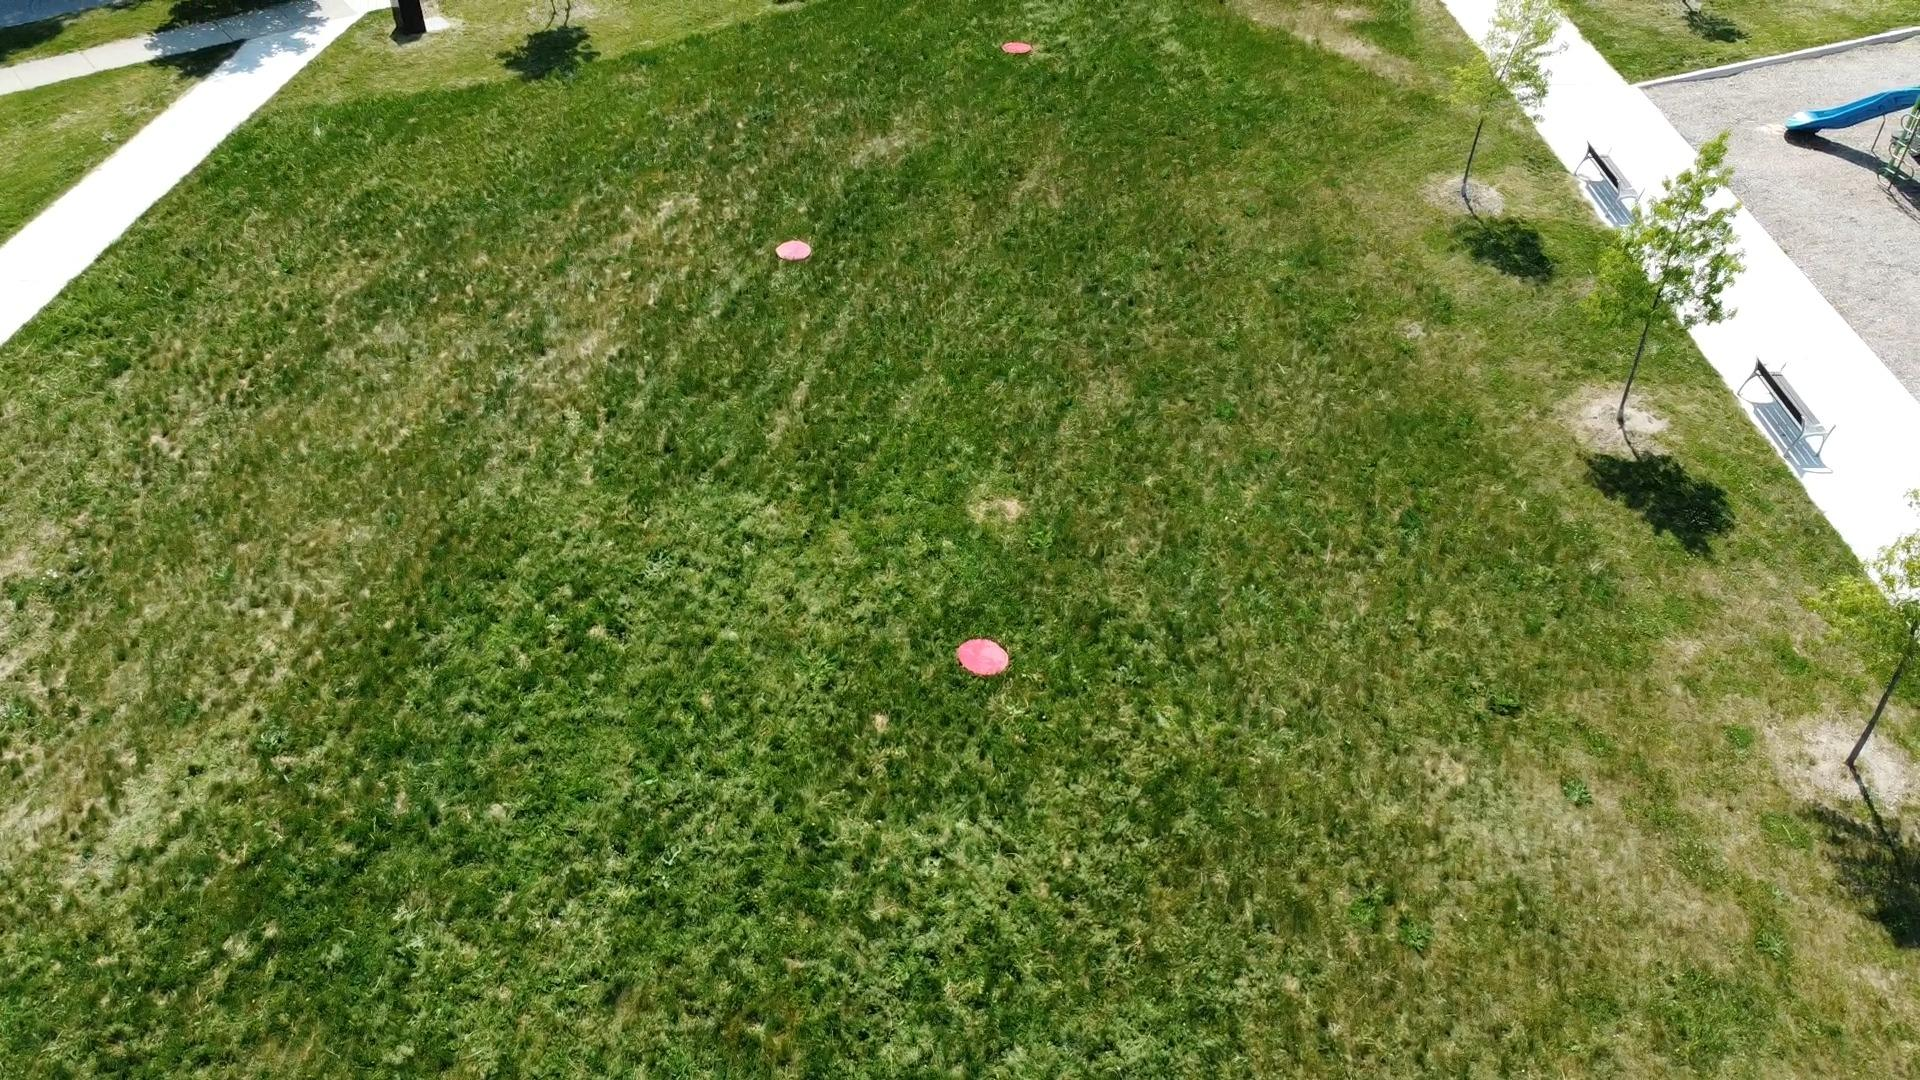Red: (957, 636, 1011, 678), (774, 239, 815, 262), (1001, 41, 1034, 55)
